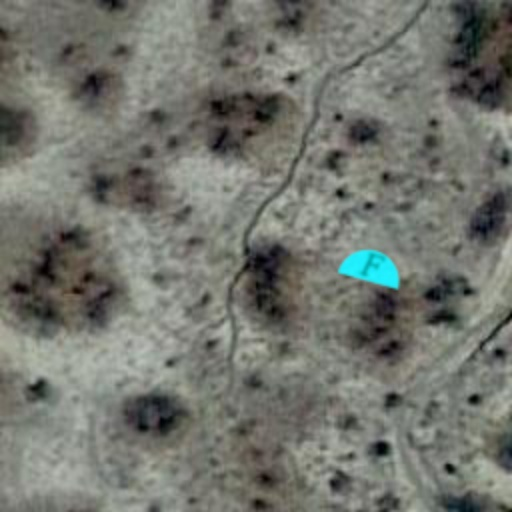semicircle: (332, 226, 412, 306)
